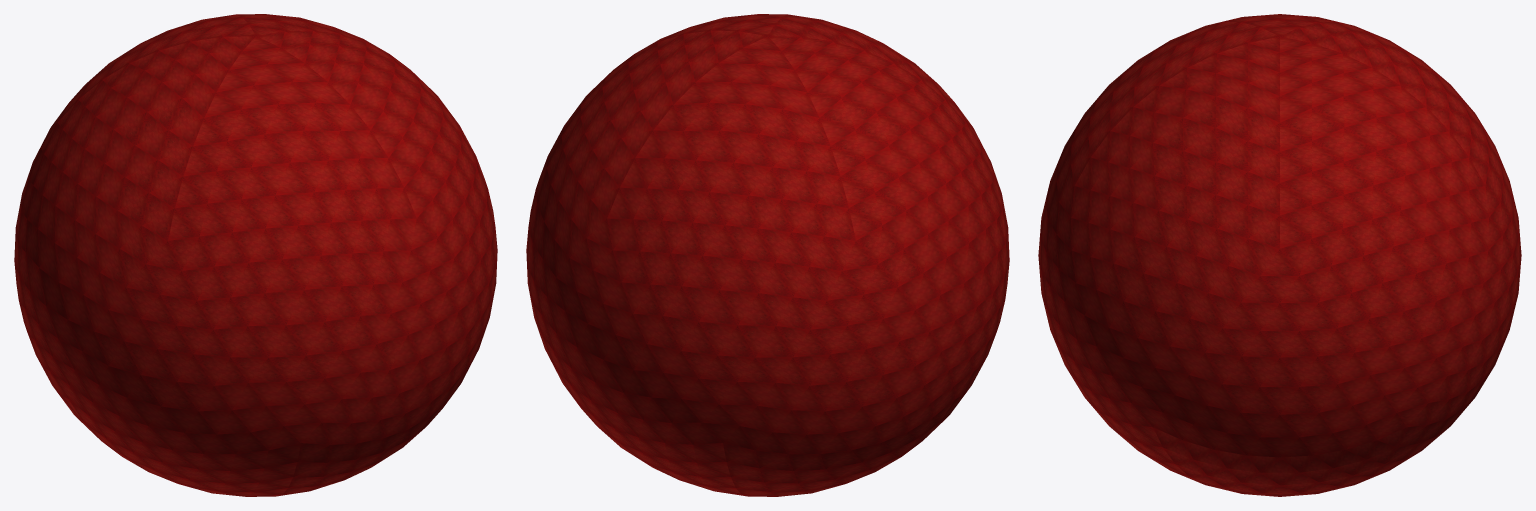
The model's file is ball.obj.
The picture shows the model from 3 angles, left to right: view 1: azimuth 30°, elevation 25°; view 2: azimuth 150°, elevation 25°; view 3: azimuth 270°, elevation 25°; orthographic projection.
Bounding box in the file's own units: 0.75 × 0.75 × 0.75.
